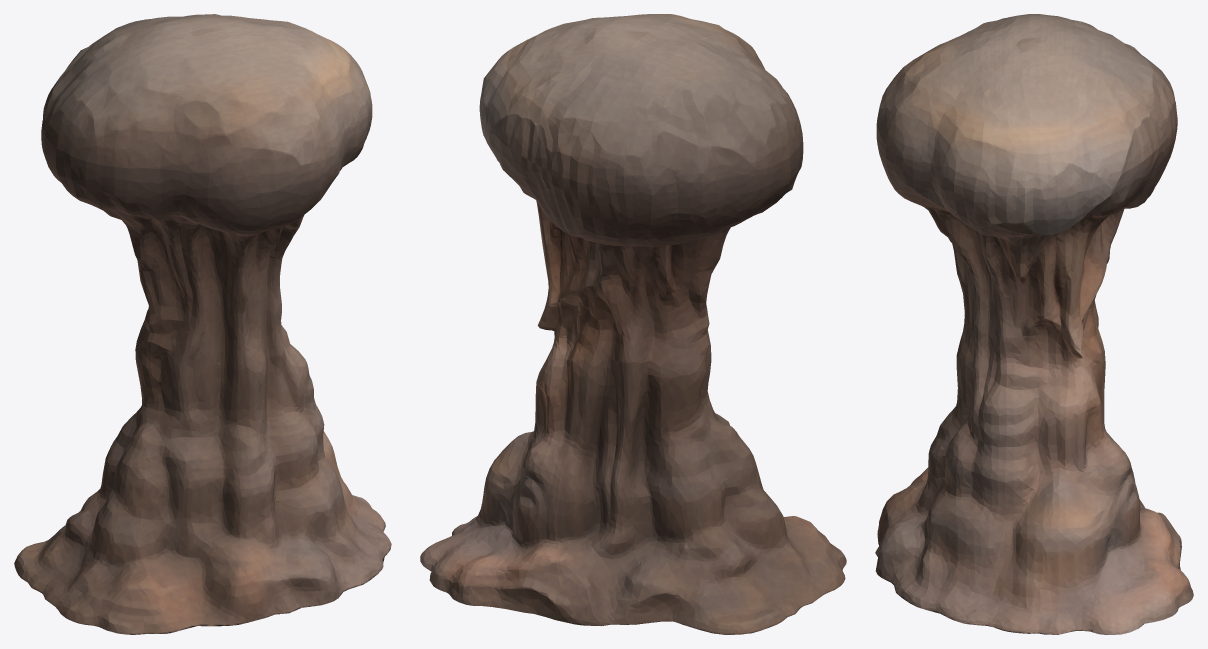
3 views of the same model, side by side, from view 1: azimuth 30°, elevation 25°; view 2: azimuth 150°, elevation 25°; view 3: azimuth 270°, elevation 25° (orthographic). The views are drawn at different scales.
Visible parts, largest first — view 1: world; view 2: world; view 3: world.
Part boxes in pixels (left/top/right/bottom): world: left=14, top=14, right=391, bottom=634; world: left=420, top=14, right=846, bottom=634; world: left=875, top=14, right=1193, bottom=634.
Bounding box in the file's own units: 2.24 × 3.26 × 1.84.
1 material, 1 textured.
